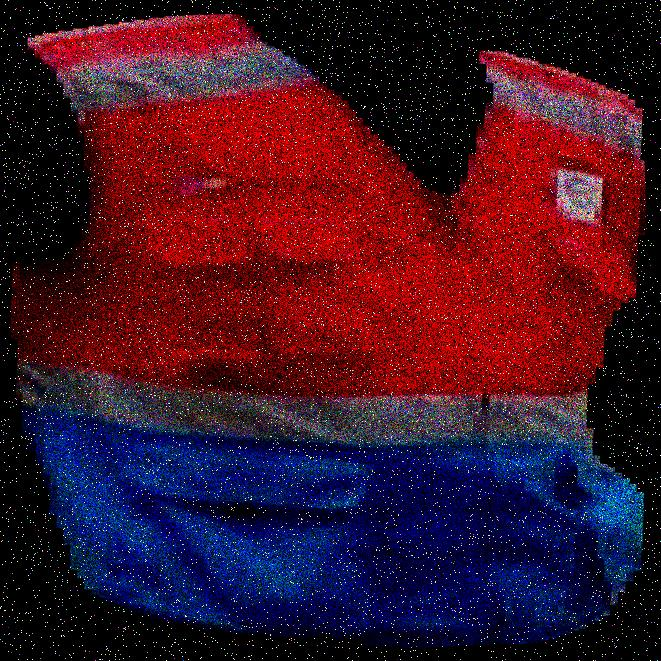Colete: (442, 0, 639, 660)
